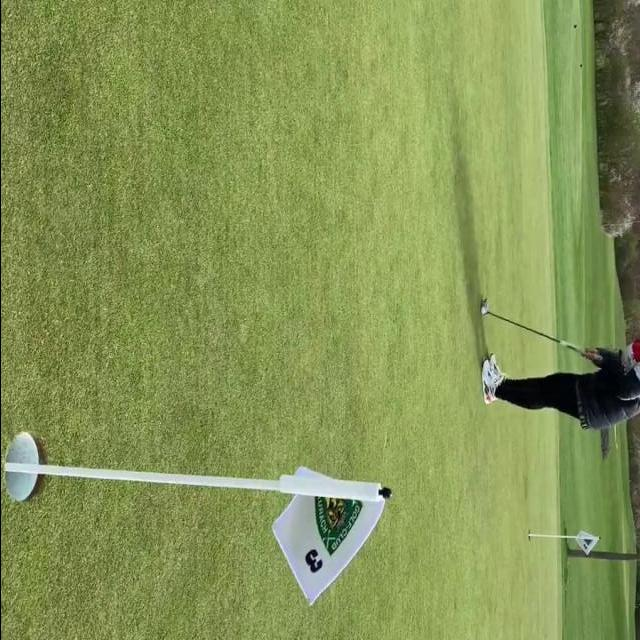golf ball: (479, 306, 487, 315)
golf club-handle: (477, 297, 604, 361)
golf club-head: (479, 298, 488, 314)
